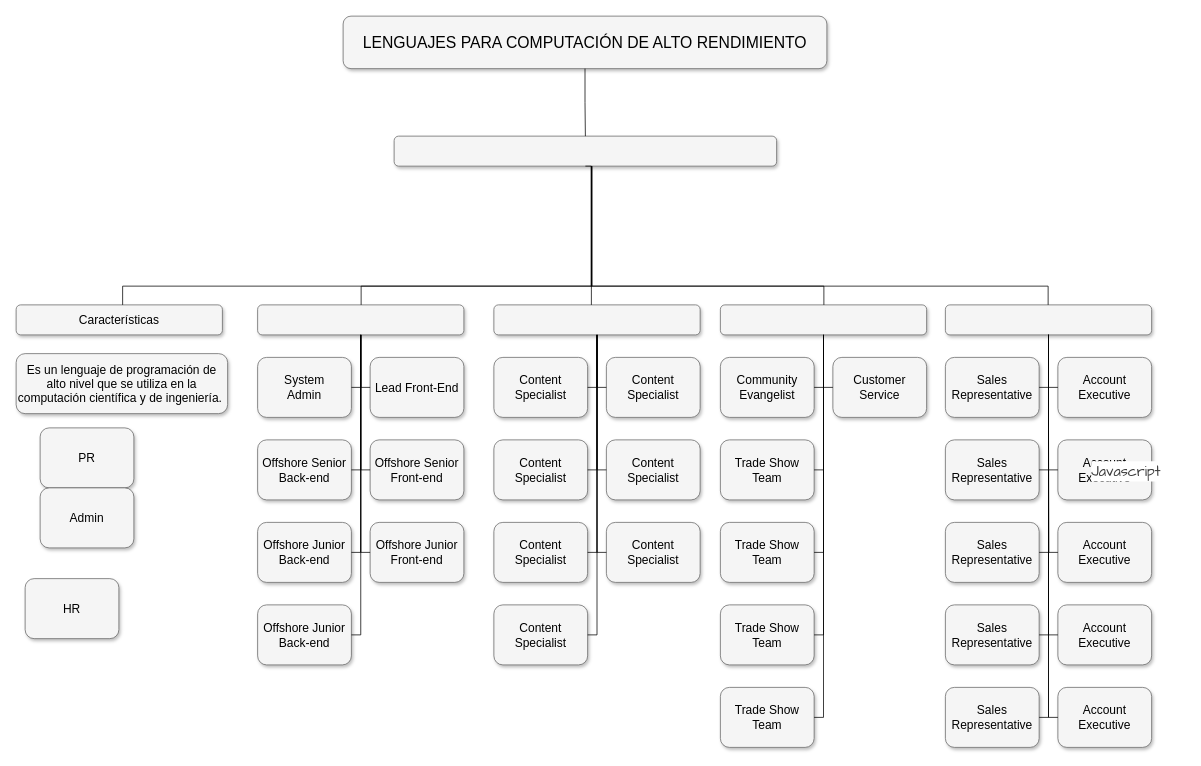
Image size: 1201x766. Some labels were removed from this diagram. Here are the shapes that lost their labels. From the top down, the centre of each, then its label:
At (x=585, y=151): "COO".
At (x=361, y=320): "Ventajas".
At (x=597, y=320): "Desventajas".
At (x=824, y=320): "Ejemplos".
At (x=1049, y=320): "Python".
